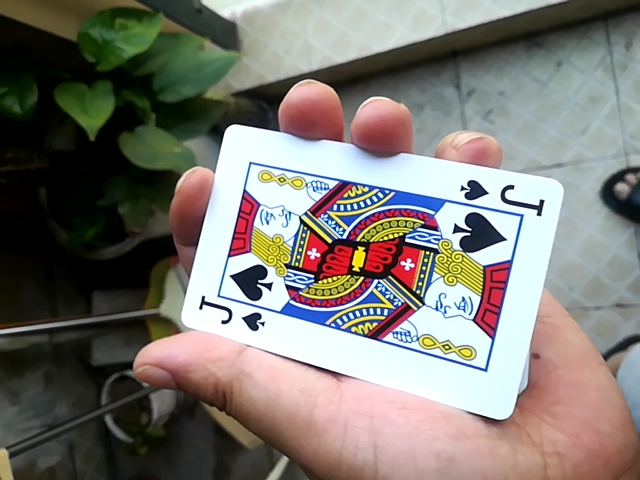ht j: (166, 113, 552, 417)
